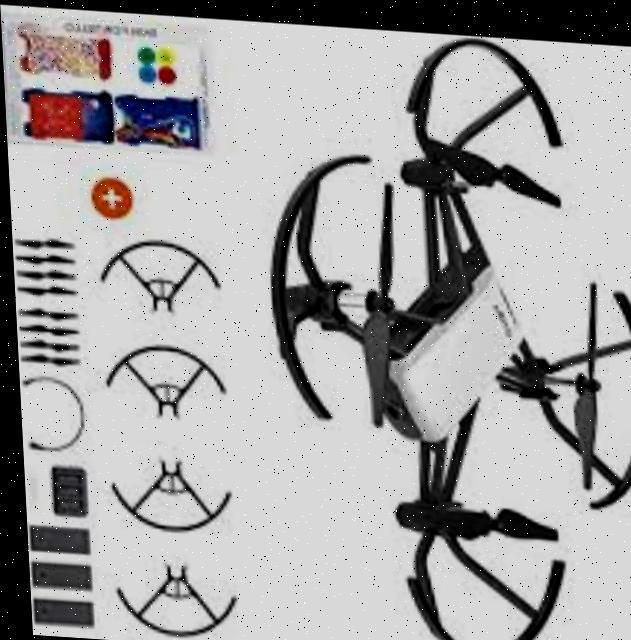drone: (231, 17, 631, 640)
